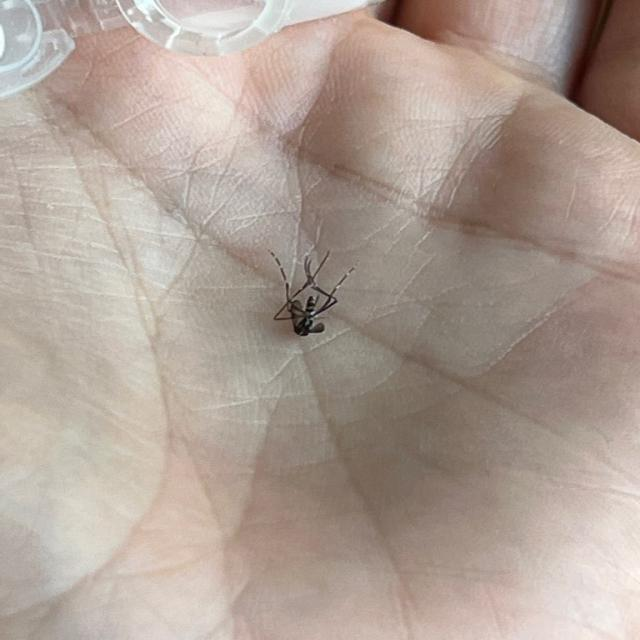albopictus: (250, 224, 368, 342)
